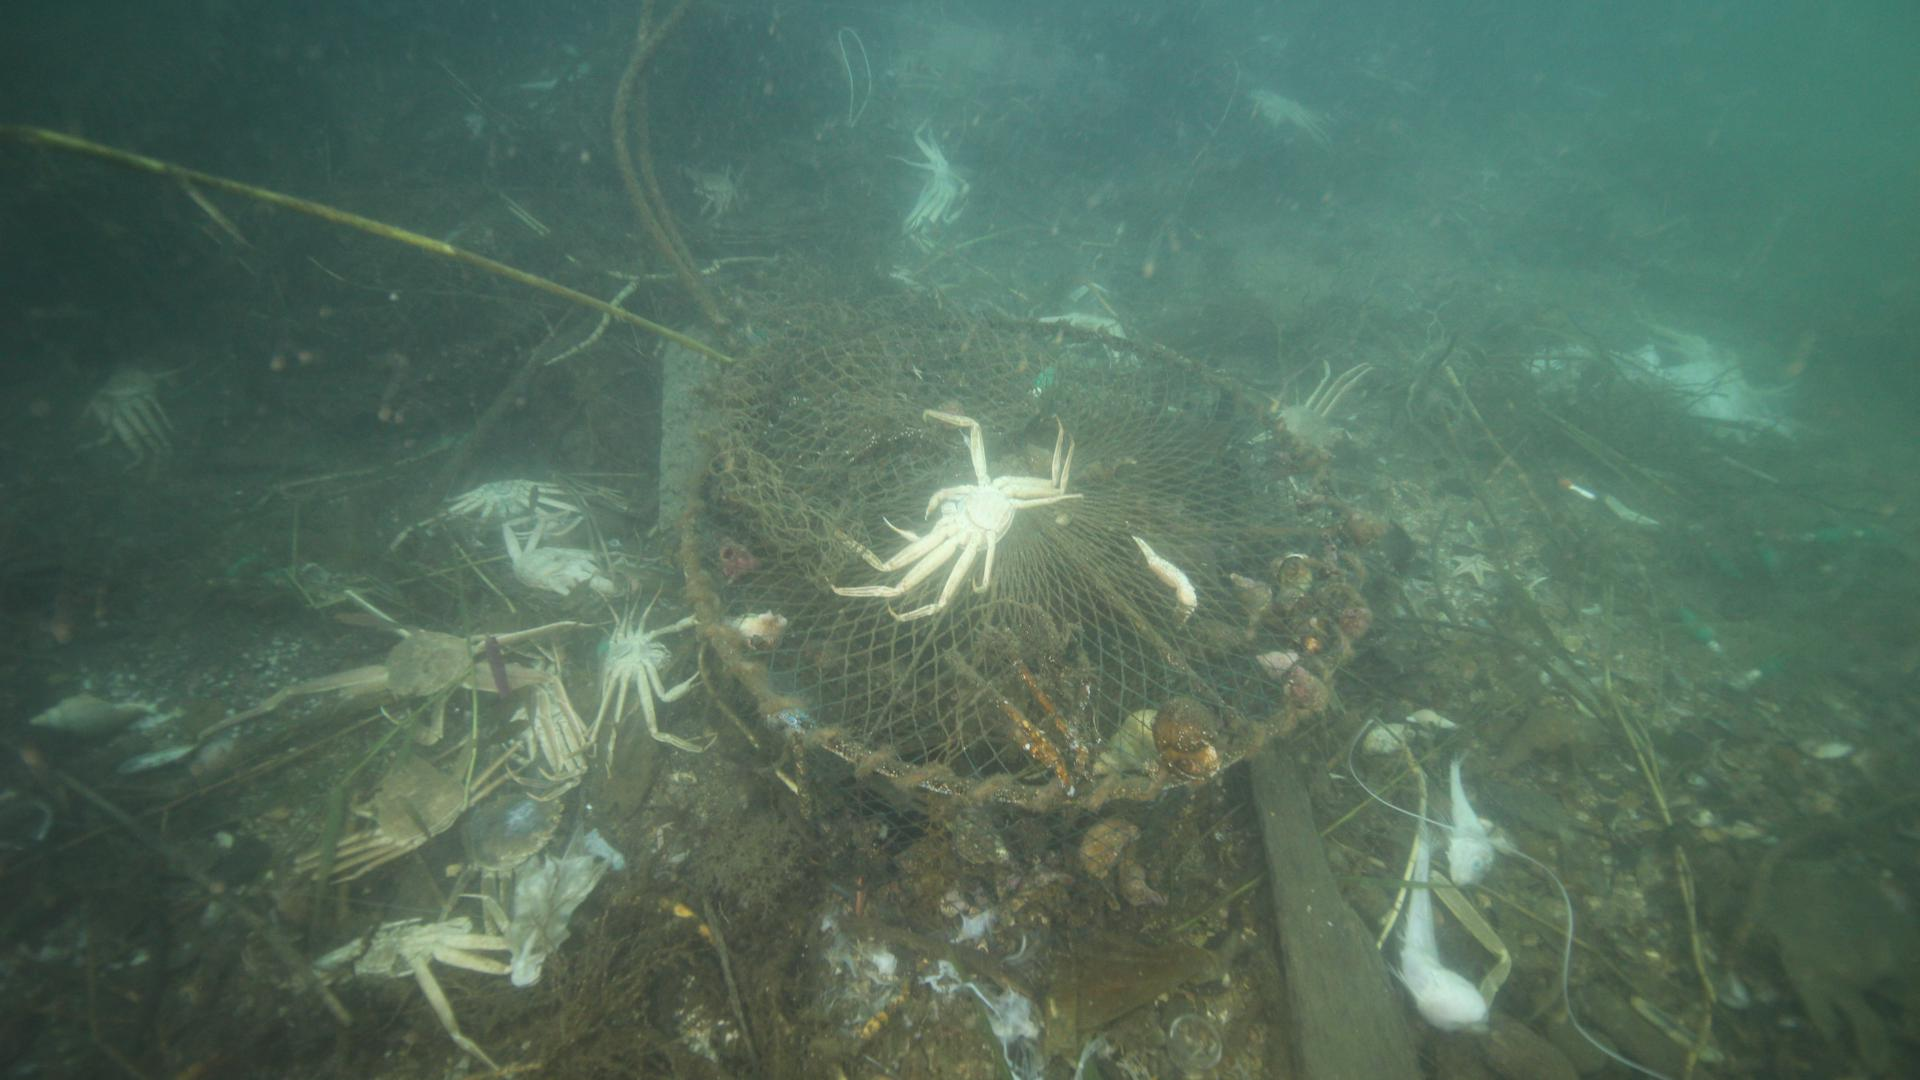bundle of ropes: (603, 0, 742, 324)
circular fish trap: (673, 299, 1373, 825)
